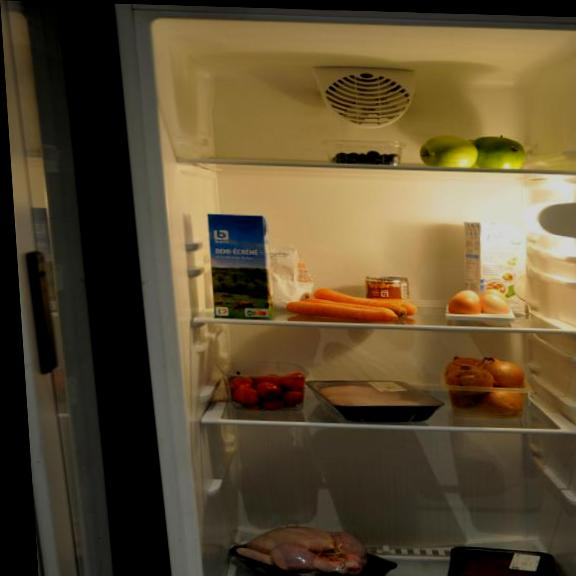apple: (473, 128, 540, 179), (413, 122, 476, 175)
carrots: (298, 289, 414, 332)
chicken: (228, 520, 399, 576)
eggs: (446, 291, 509, 329)
meat: (312, 369, 440, 428), (439, 531, 559, 576)
milk: (209, 212, 274, 325), (465, 223, 528, 318)
olive: (327, 135, 409, 177)
onion: (443, 350, 532, 426)
tomatoes: (223, 350, 315, 408)
